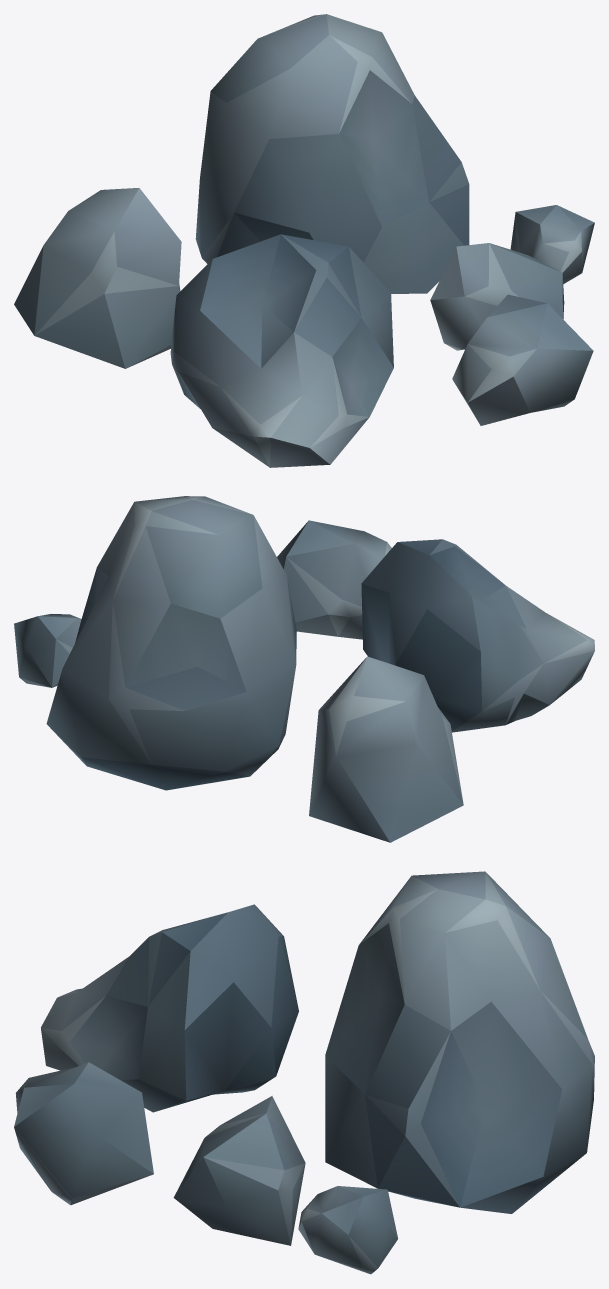
The model's file is iron-nuggets.glb.
3 views of the same model, one above another, from view 1: azimuth 30°, elevation 25°; view 2: azimuth 150°, elevation 25°; view 3: azimuth 270°, elevation 25° (orthographic). The views are drawn at different scales.
Parts seen in each view (by area): view 1: Iron_Nuggets; view 2: Iron_Nuggets; view 3: Iron_Nuggets.
Part boxes in pixels (bbox=[...]): Iron_Nuggets: bbox=[14, 14, 594, 467]; Iron_Nuggets: bbox=[14, 496, 594, 842]; Iron_Nuggets: bbox=[14, 871, 594, 1274].
Size of the model in its own units: 0.9288 by 0.4749 by 0.8501.
1 material, 1 textured.
